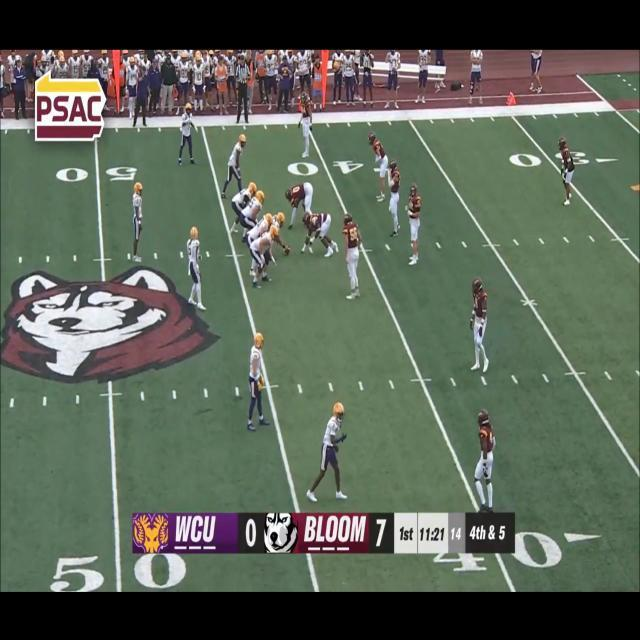football: (284, 246, 291, 258)
